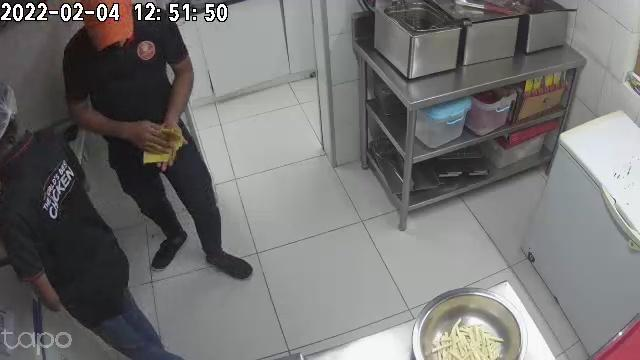no_gloves: (114, 120, 169, 154)
